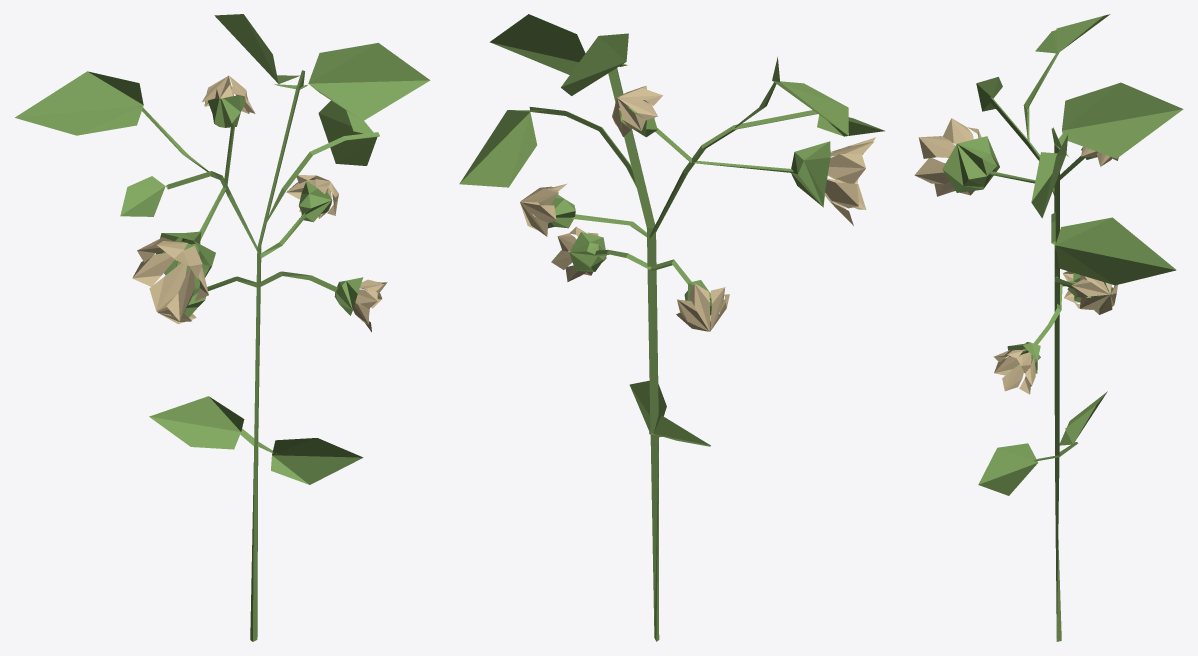
File: Pepper_4.fbx
3 views of the same model, side by side, from view 1: azimuth 30°, elevation 25°; view 2: azimuth 150°, elevation 25°; view 3: azimuth 270°, elevation 25° (orthographic). The views are drawn at different scales.
Visible parts, largest first — view 1: polySurface100; view 2: polySurface100; view 3: polySurface100.
Boxes of the visible parts, box(x1,y1,x2,y2) form: polySurface100: box(15, 14, 430, 641); polySurface100: box(459, 14, 884, 641); polySurface100: box(914, 14, 1183, 641).
Size of the model in its own units: 143 by 214 by 91.78.
